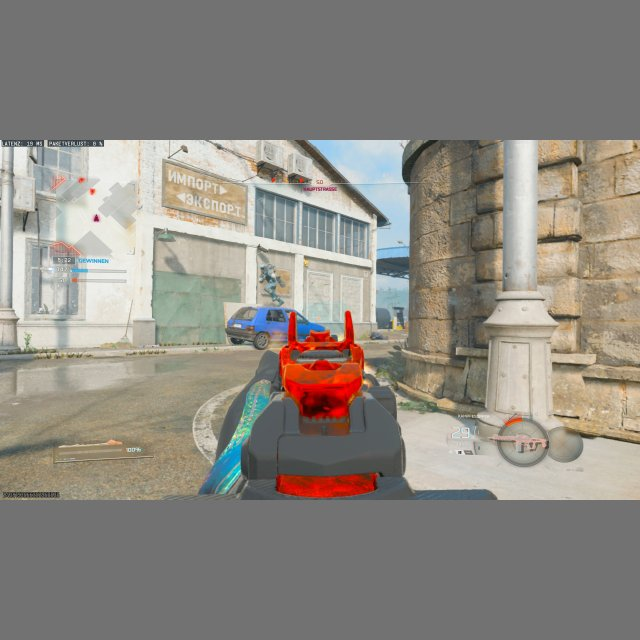head: (262, 263, 271, 272)
player: (258, 263, 286, 307)
